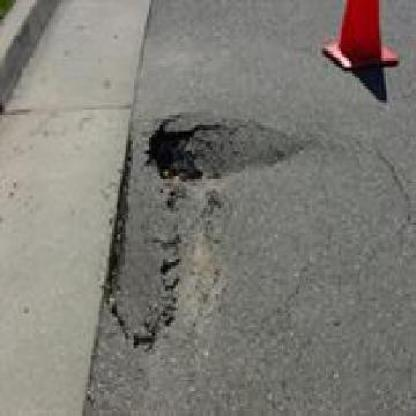pothole: (99, 117, 184, 352), (143, 117, 304, 184)
